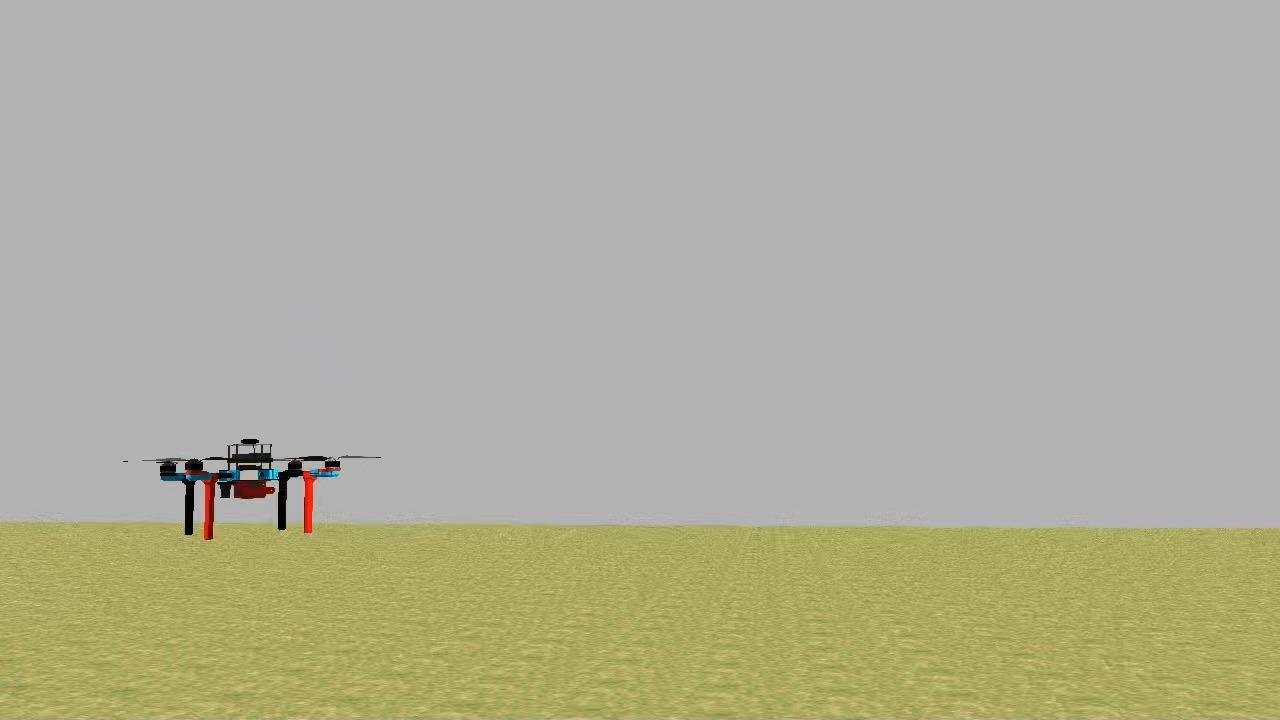UAV: (144, 420, 356, 552)
